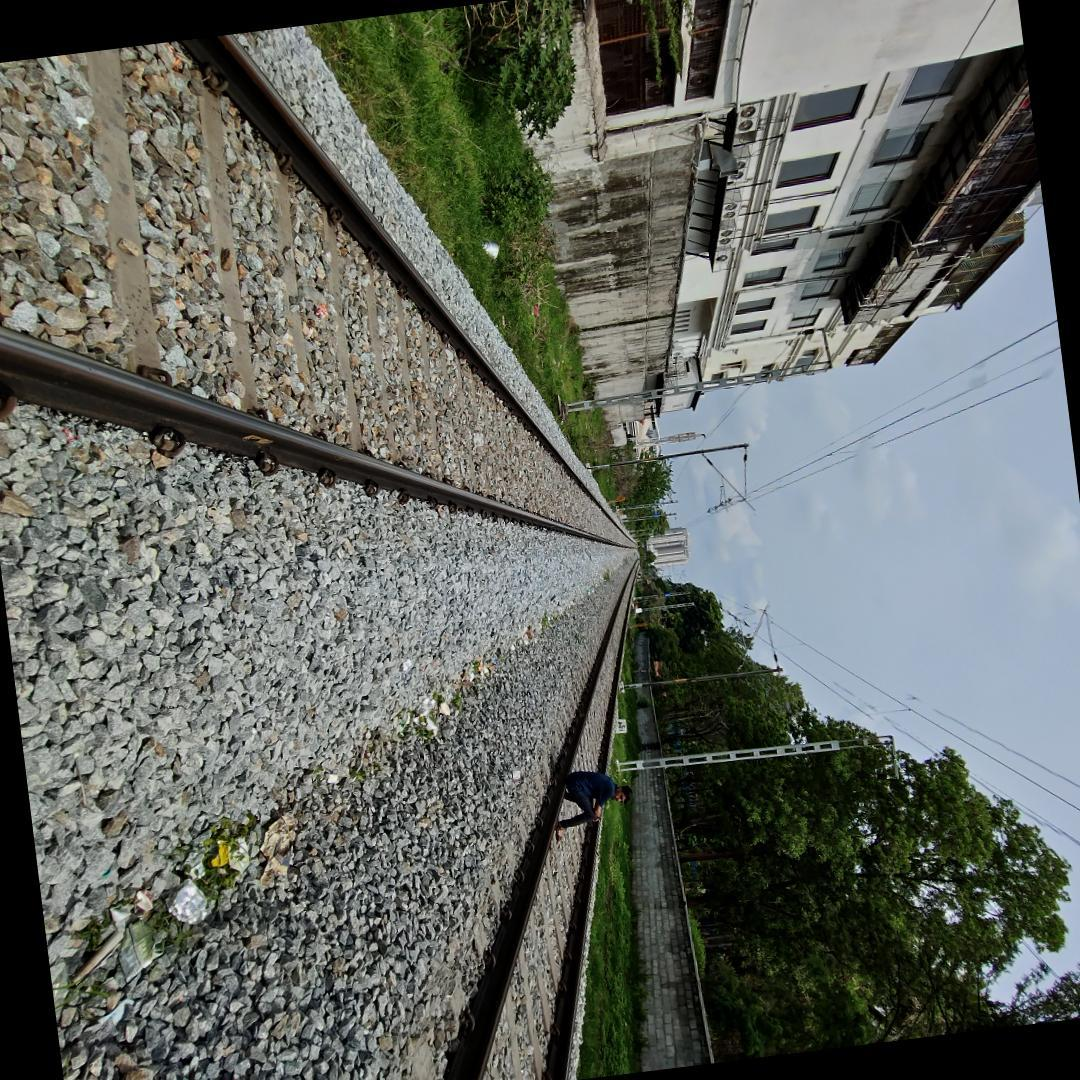sitting: (548, 767, 634, 852)
track: (414, 554, 658, 1080)
